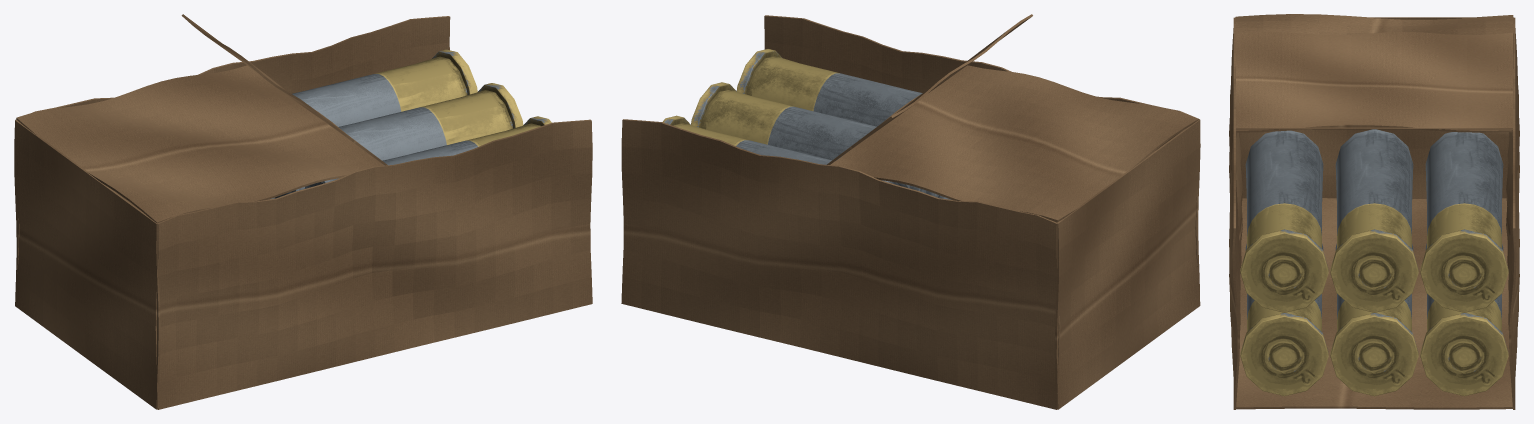
File: ShotgunScrapshotBox.glb
3 renders of one model, left to right at view 1: azimuth 30°, elevation 25°; view 2: azimuth 150°, elevation 25°; view 3: azimuth 270°, elevation 25°, orthographic.
Visible parts, largest first — view 1: ShotgunScrapshotBox, ShotgunScrapshotBox_Contents; view 2: ShotgunScrapshotBox, ShotgunScrapshotBox_Contents; view 3: ShotgunScrapshotBox_Contents, ShotgunScrapshotBox.
Boxes of the visible parts, <box> form: ShotgunScrapshotBox: <box>14,14,592,409</box>; ShotgunScrapshotBox_Contents: <box>270,49,551,199</box>; ShotgunScrapshotBox: <box>621,14,1200,409</box>; ShotgunScrapshotBox_Contents: <box>662,49,951,199</box>; ShotgunScrapshotBox_Contents: <box>1240,129,1508,396</box>; ShotgunScrapshotBox: <box>1229,14,1519,409</box>.
Size of the model in its own units: 0.2464 by 0.1361 by 0.1439.
2 materials, 2 textured.
